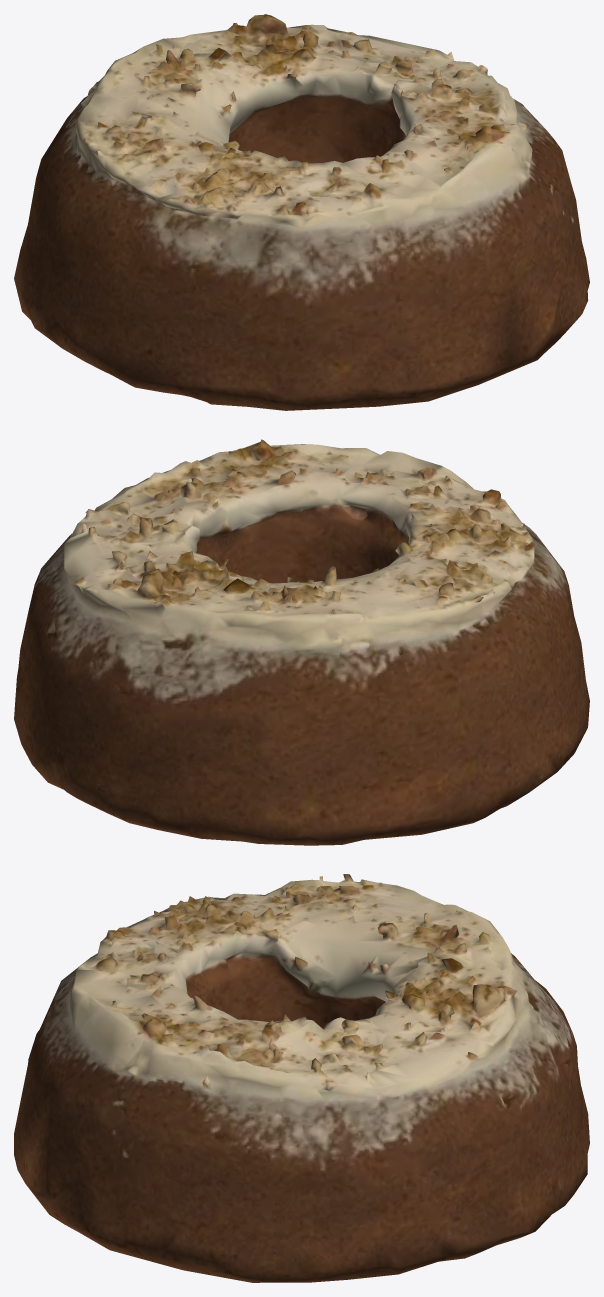
Rendered from cake.glb.
3 renders of one model, top to bottom at view 1: azimuth 30°, elevation 25°; view 2: azimuth 150°, elevation 25°; view 3: azimuth 270°, elevation 25°, orthographic. The views are drawn at different scales.
Visible parts, largest first — view 1: carrot_cake; view 2: carrot_cake; view 3: carrot_cake.
Part boxes in pixels (x1,y1,x2,y2): carrot_cake: (14,14,589,410); carrot_cake: (14,439,589,845); carrot_cake: (14,874,589,1282).
Bounding box in the file's own units: 0.2254 × 0.0976 × 0.2254.
1 material, 1 textured.
